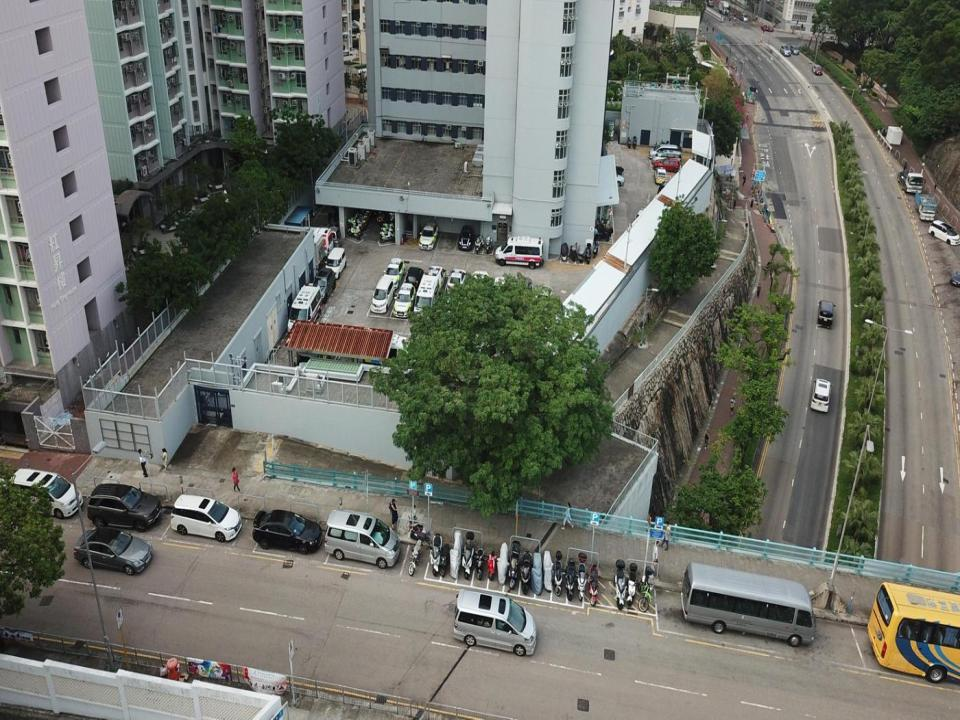bus: (680, 560, 816, 646), (868, 581, 960, 686)
car: (74, 527, 154, 573), (253, 509, 326, 553), (311, 268, 336, 306), (392, 283, 416, 318), (810, 378, 833, 413), (324, 246, 346, 279), (403, 267, 425, 299), (446, 268, 467, 300), (469, 270, 490, 302), (384, 258, 405, 288), (418, 221, 438, 250), (428, 265, 446, 292), (596, 173, 626, 188), (458, 226, 472, 251), (656, 158, 680, 171), (596, 164, 626, 174), (949, 268, 960, 288), (654, 166, 666, 184), (811, 64, 823, 76), (780, 44, 790, 57), (788, 45, 800, 55), (761, 25, 773, 32), (708, 1, 714, 7), (709, 0, 715, 5)
truck: (897, 162, 924, 194), (914, 187, 938, 221), (719, 0, 729, 15)
van: (454, 588, 535, 658), (324, 509, 399, 568), (3, 469, 81, 520), (169, 494, 242, 541), (87, 485, 162, 530), (928, 219, 960, 247), (372, 277, 393, 312), (316, 226, 342, 248), (817, 299, 833, 328), (652, 151, 680, 164), (648, 144, 678, 156), (605, 117, 615, 140), (740, 13, 748, 22)
